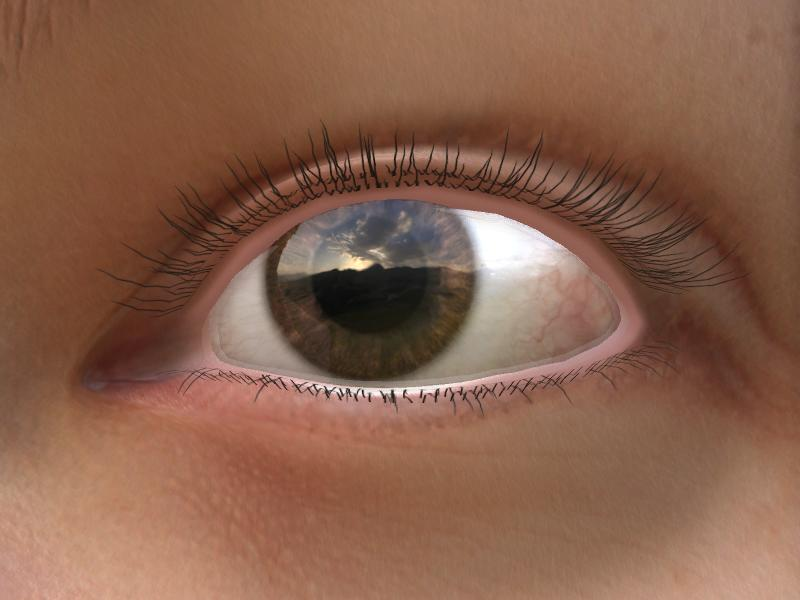eye: (265, 199, 473, 382)
